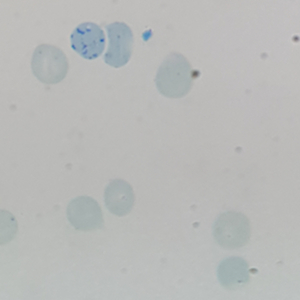aggregate reticulocyte: (68, 21, 108, 61)
erythrocyte: (212, 210, 251, 250), (64, 195, 105, 233), (215, 254, 254, 293), (102, 178, 137, 218)
punctate reticulocyte: (153, 51, 196, 101), (30, 42, 69, 86), (101, 20, 136, 69)
